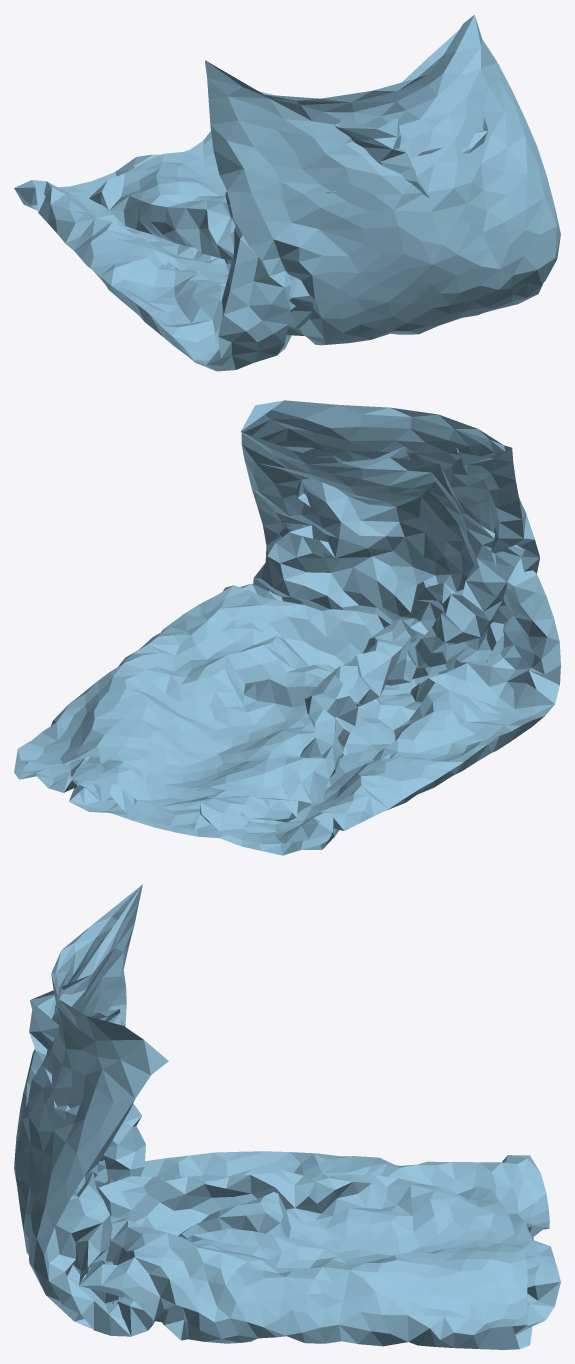
Rendered from frame_10.glb.
3 renders of one model, top to bottom at view 1: azimuth 30°, elevation 25°; view 2: azimuth 150°, elevation 25°; view 3: azimuth 270°, elevation 25°, orthographic. The views are drawn at different scales.
Visible parts, largest first — view 1: frame_10.obj; view 2: frame_10.obj; view 3: frame_10.obj.
Part boxes in pixels (x1,y1,x2,y2): frame_10.obj: (14, 15, 560, 371); frame_10.obj: (14, 400, 560, 855); frame_10.obj: (14, 884, 560, 1349).
Bounding box in the file's own units: 0.9718 × 0.7649 × 1.22.
